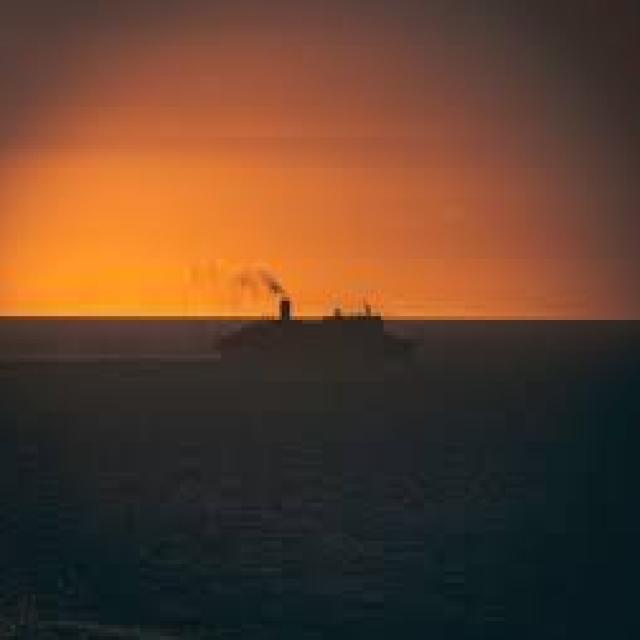cargoship: (207, 262, 443, 373)
